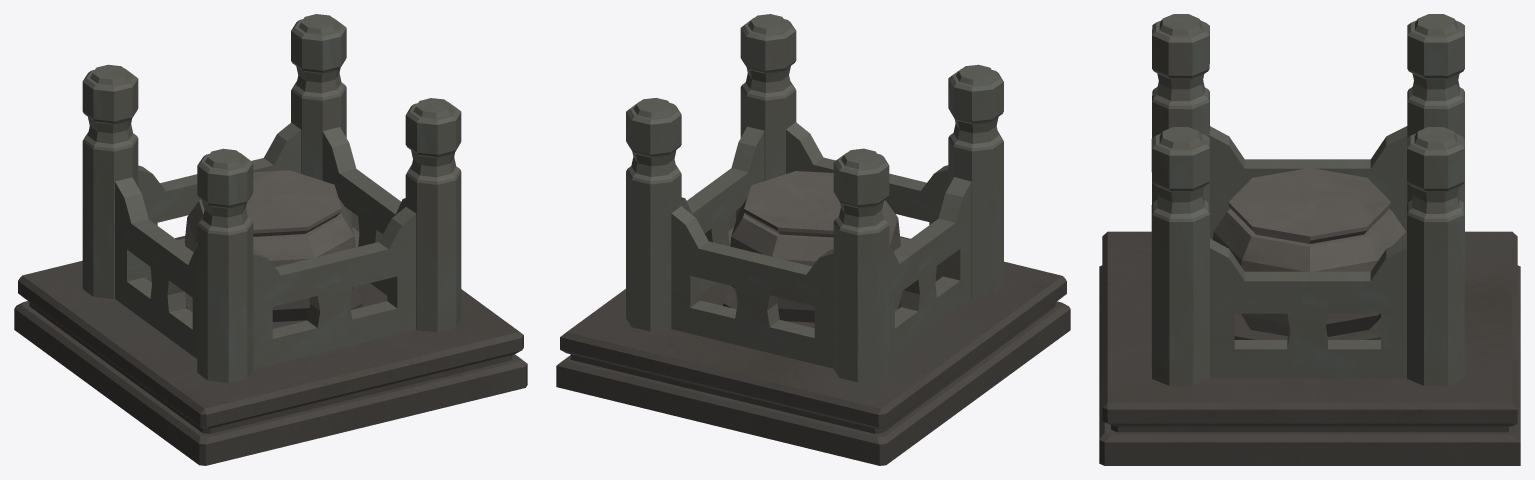
Rendered from ShuiJing06.fbx.
The picture shows the model from 3 angles, left to right: view 1: azimuth 30°, elevation 25°; view 2: azimuth 150°, elevation 25°; view 3: azimuth 270°, elevation 25°; orthographic projection. The views are drawn at different scales.
Parts seen in each view (by area): view 1: ShuiJing06; view 2: ShuiJing06; view 3: ShuiJing06.
Boxes of the visible parts, x1,y1,x2,y2 form: ShuiJing06: (14, 14, 527, 465); ShuiJing06: (556, 14, 1070, 465); ShuiJing06: (1099, 14, 1520, 465).
Size of the model in its own units: 197 by 154 by 197.
